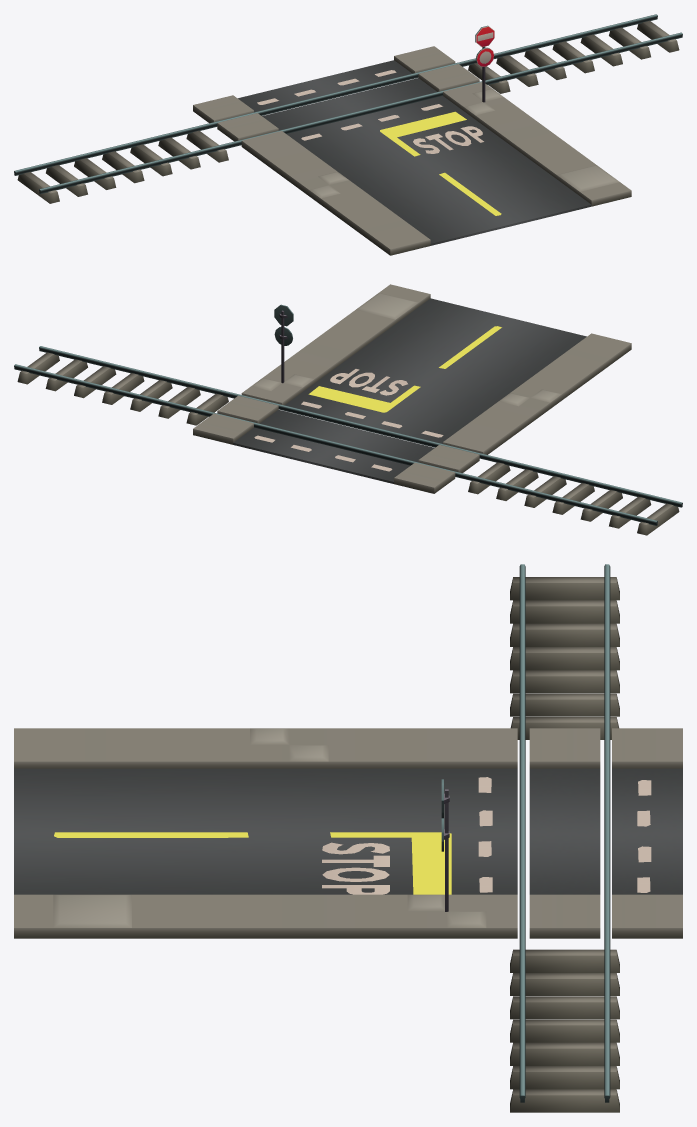
The model's file is Railroad_Crossing_1B.fbx.
3 views of the same model, one above another, from view 1: azimuth 30°, elevation 25°; view 2: azimuth 150°, elevation 25°; view 3: azimuth 270°, elevation 25° (orthographic). The views are drawn at different scales.
Visible parts, largest first — view 1: Railroad_Crossing_1B; view 2: Railroad_Crossing_1B; view 3: Railroad_Crossing_1B.
Part boxes in pixels (x1,y1,x2,y2): Railroad_Crossing_1B: [14, 14, 682, 255]; Railroad_Crossing_1B: [14, 284, 682, 535]; Railroad_Crossing_1B: [14, 564, 682, 1112].
Size of the model in its own units: 31.94 by 4.3 by 17.
